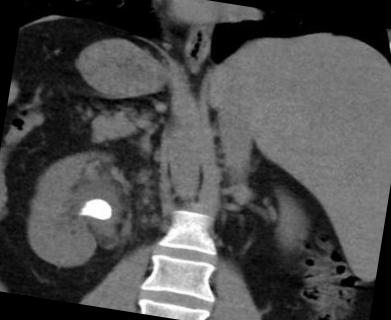Tas_Var: (72, 193, 116, 227)
